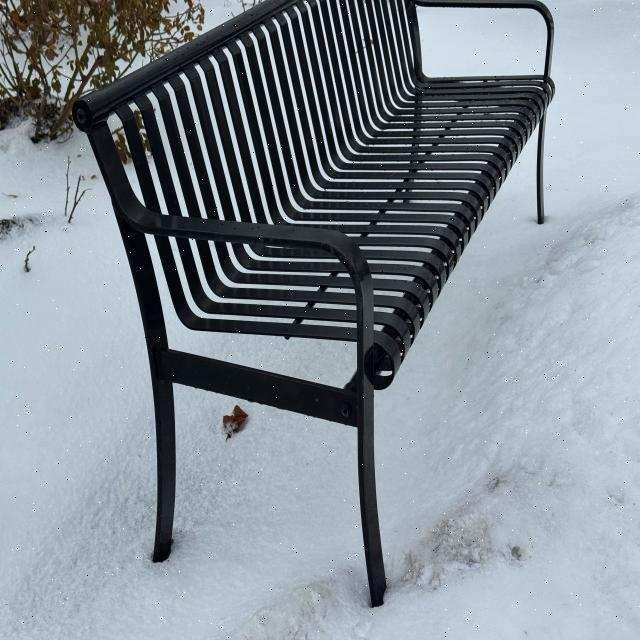Bench: (71, 3, 558, 591)
